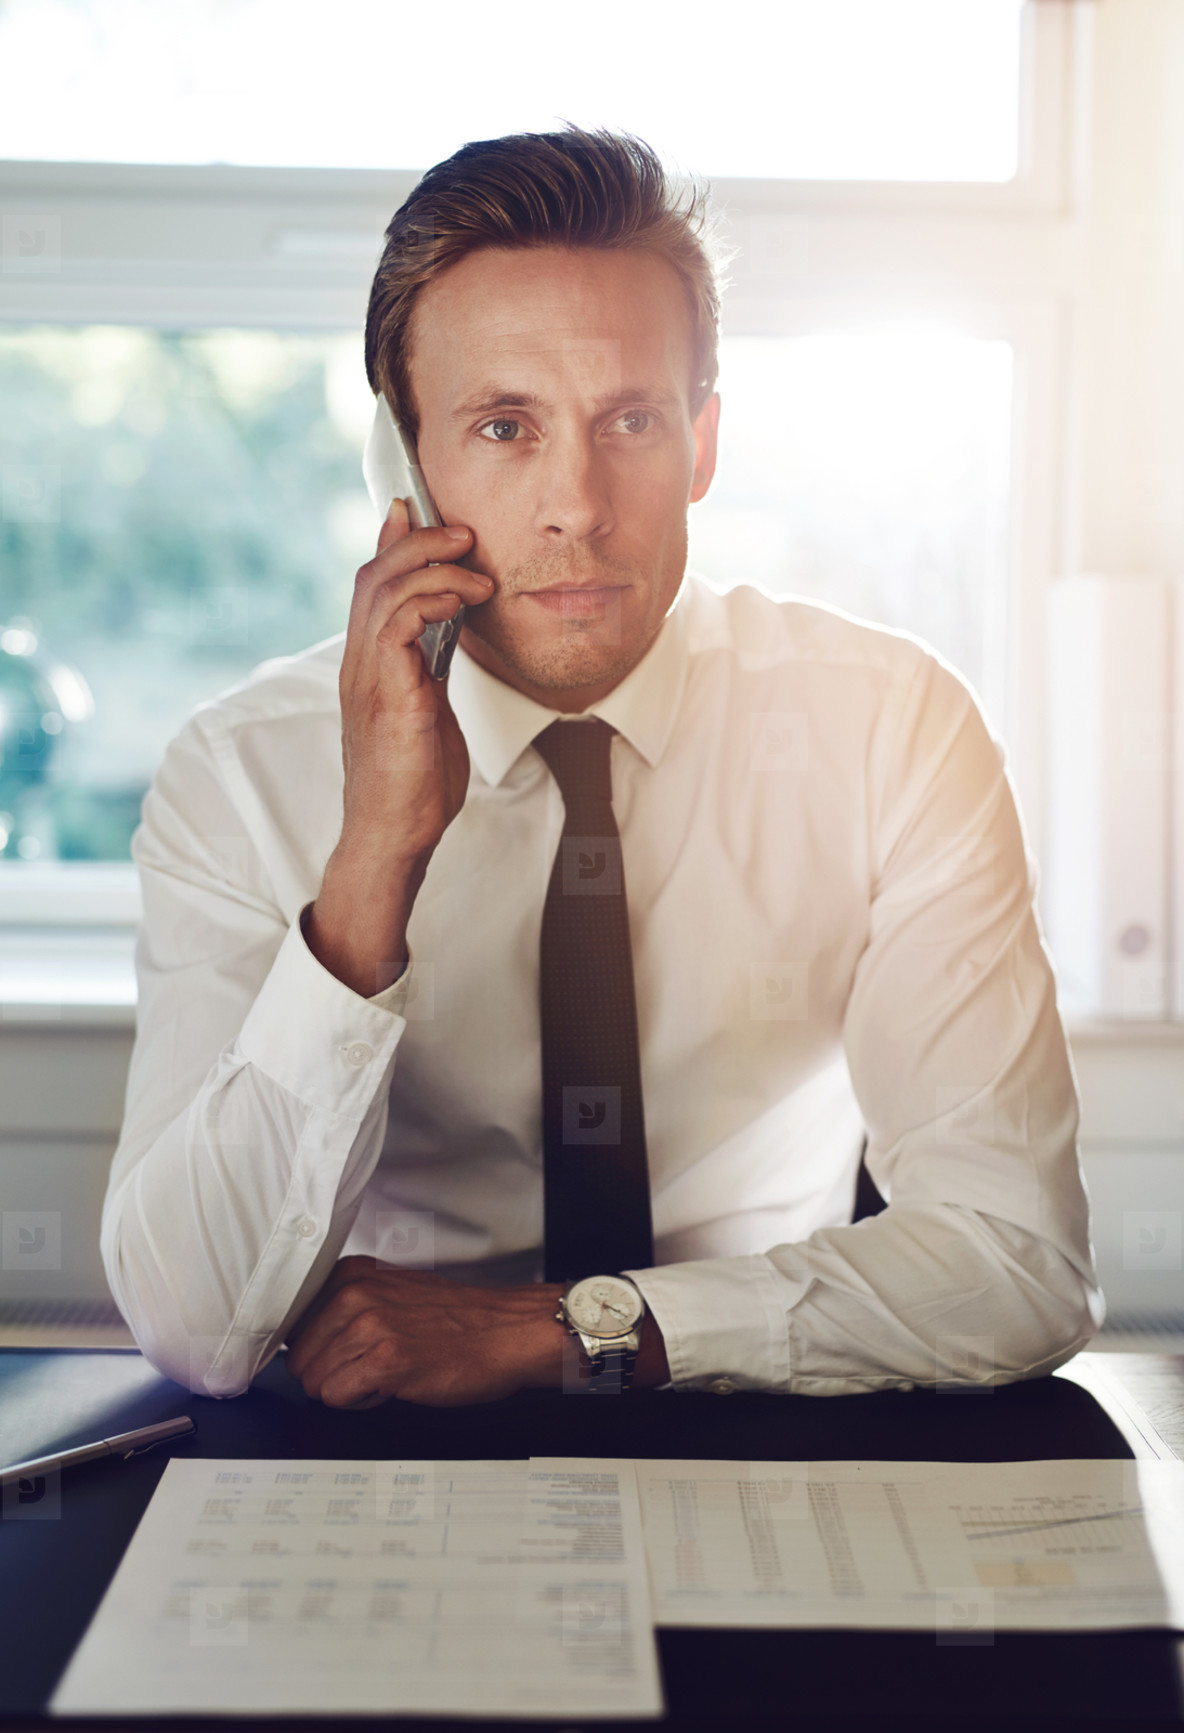phone: (332, 388, 478, 686)
talk: (327, 337, 691, 805)
